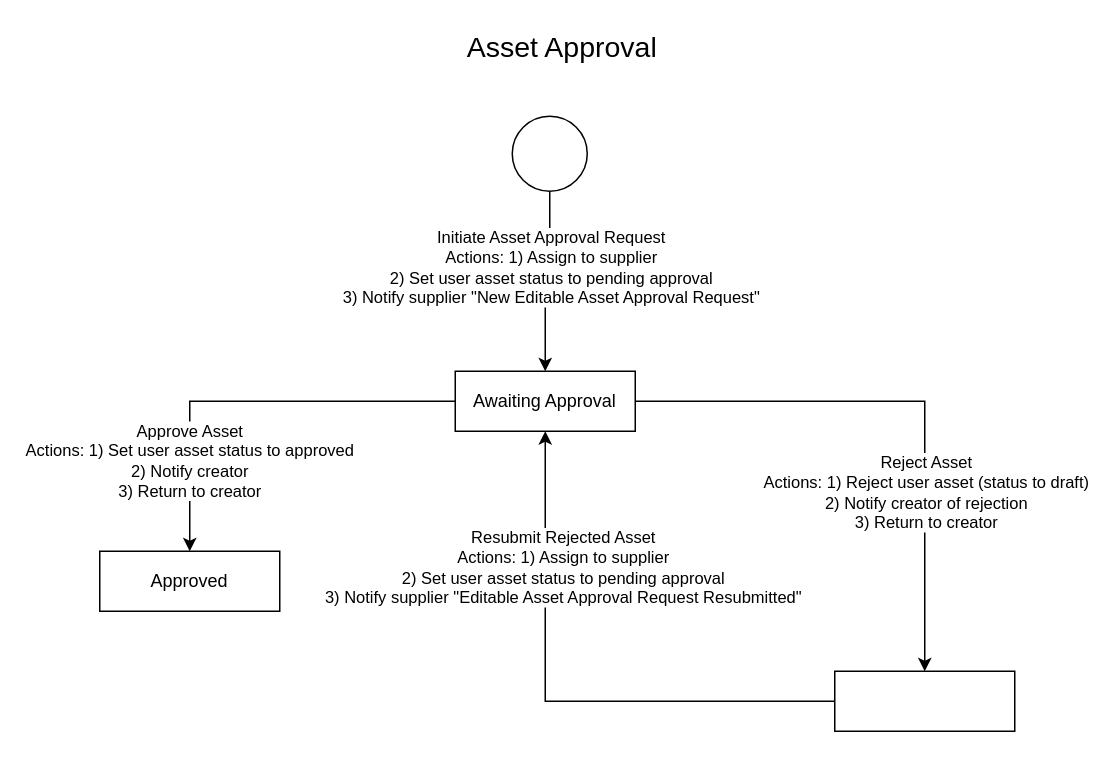
This 1115x758 diagram has some shape labels left out. Here are the shapes that lost their labels. From the top down, the box of each, then its label:
(511, 115, 587, 191): start
(833, 670, 1015, 731): Rejected
